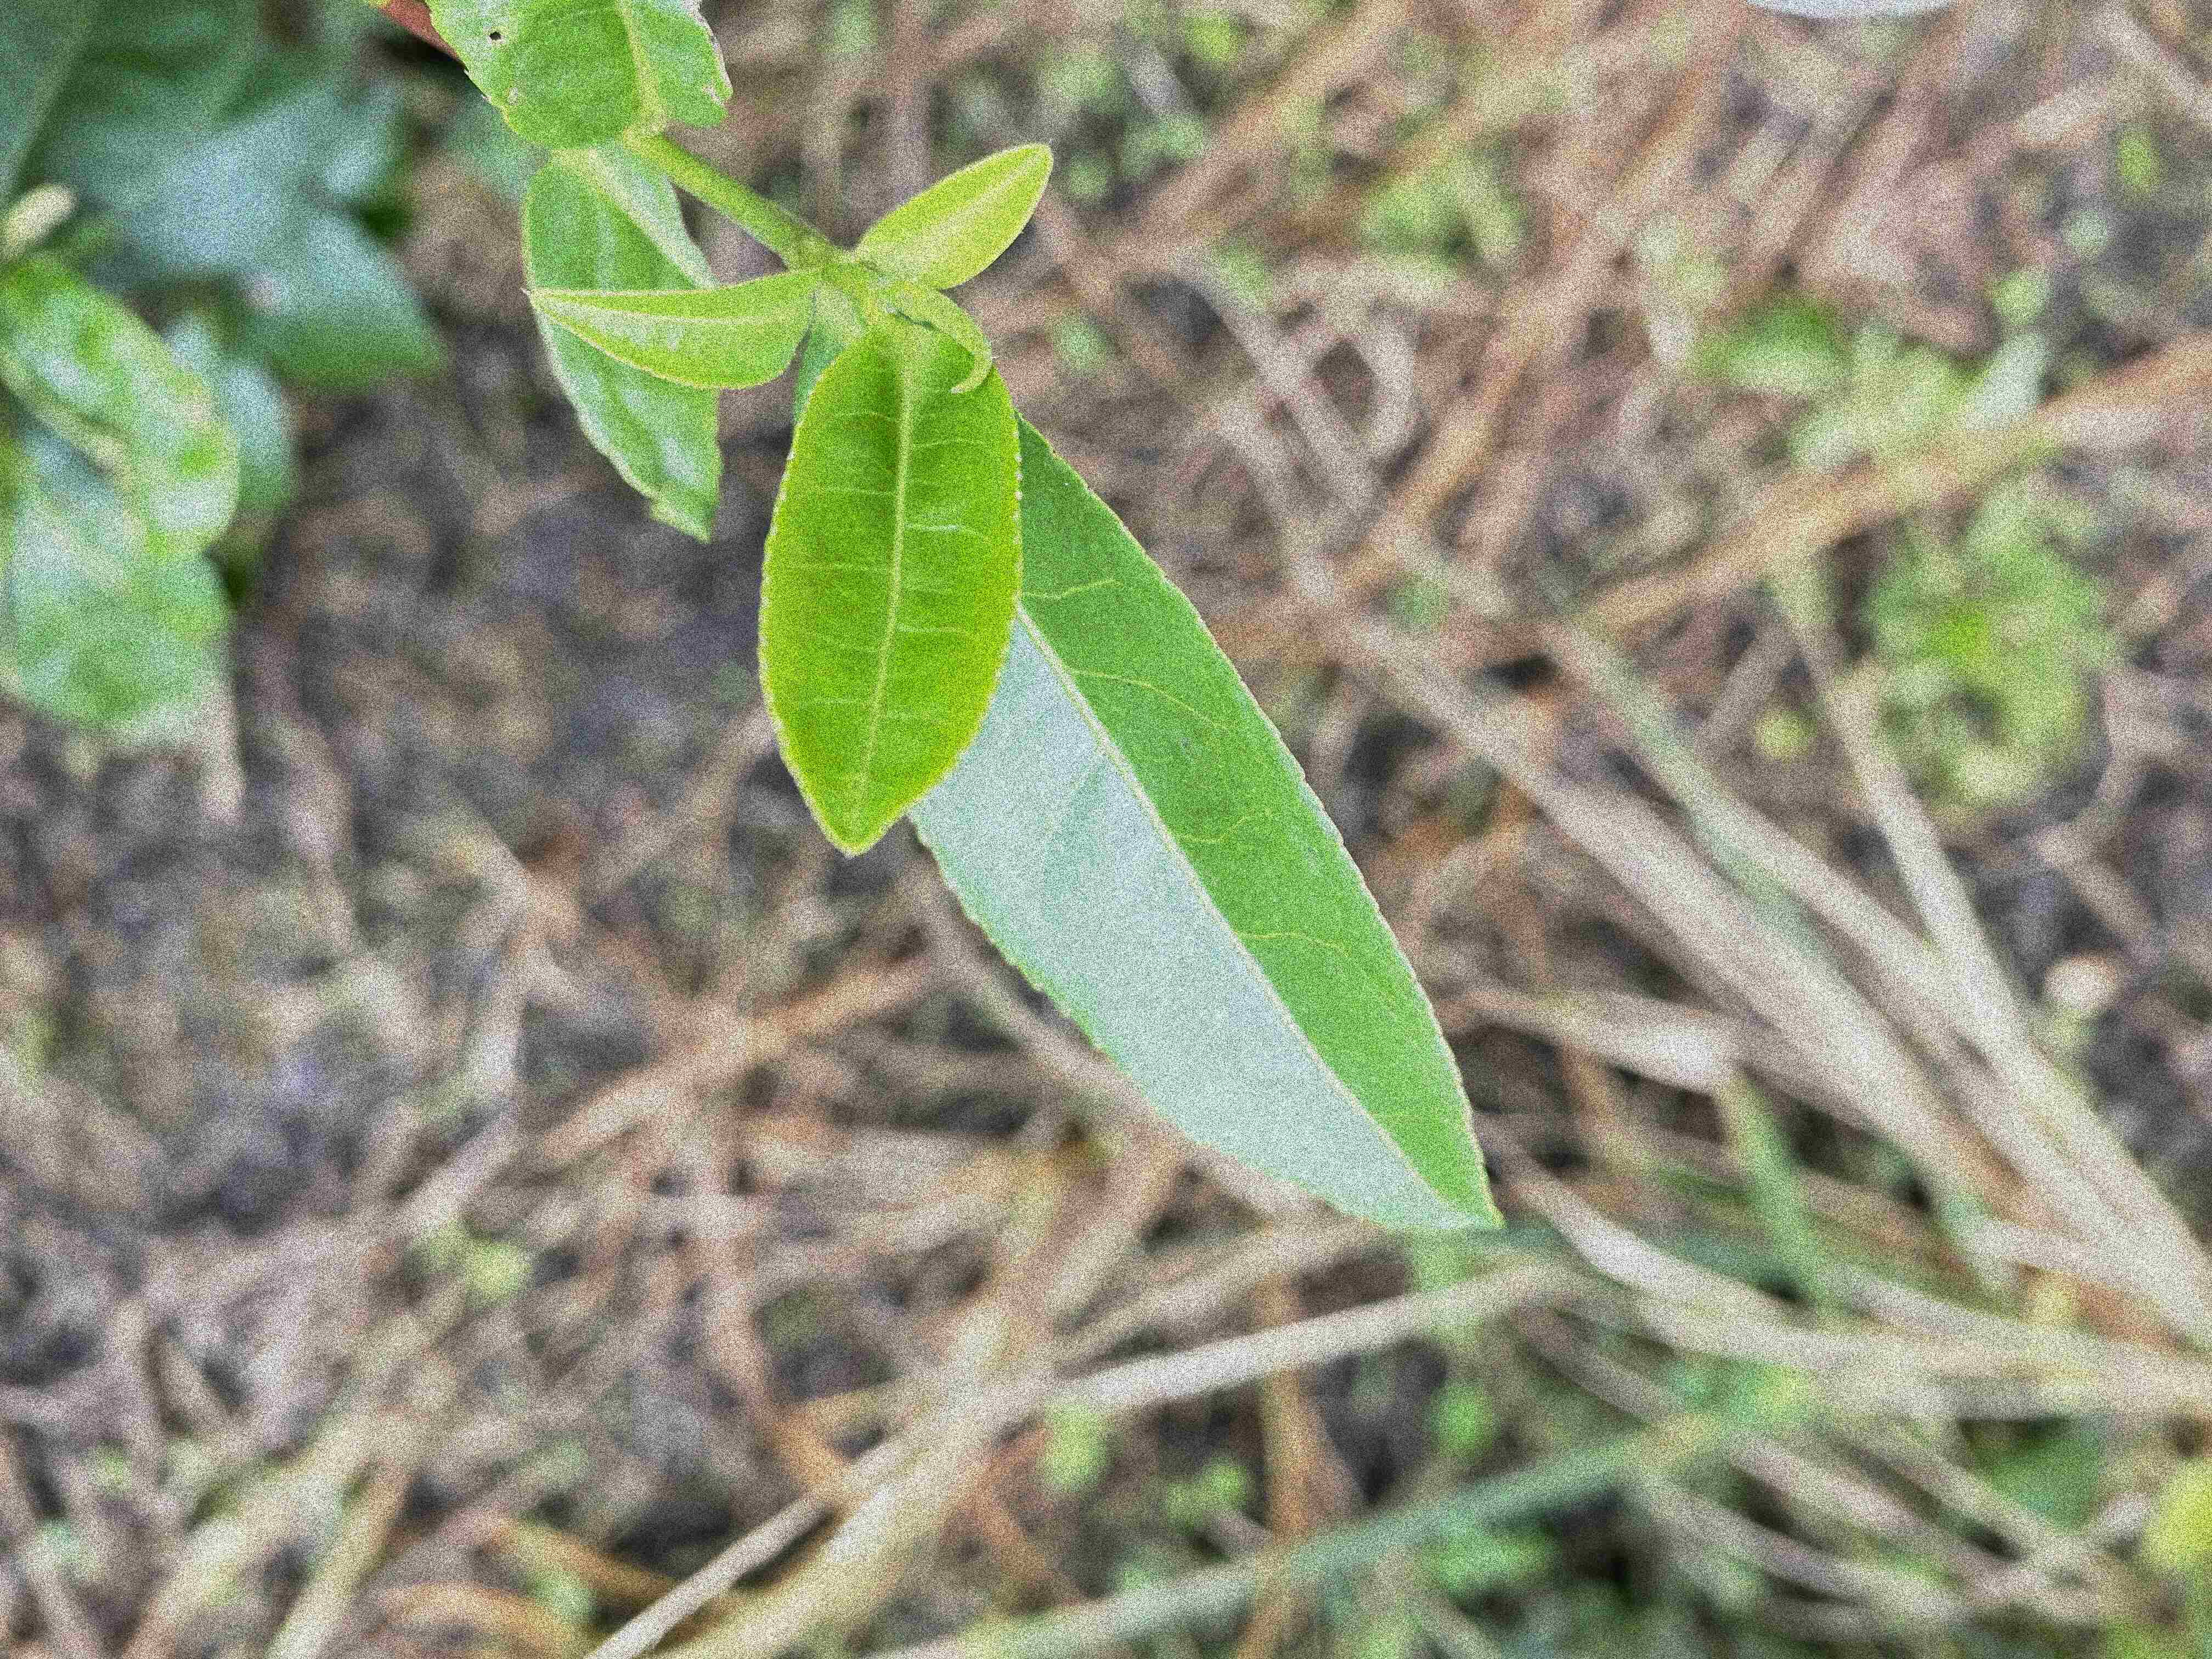healthy: (906, 410, 1503, 1237), (752, 321, 1024, 857), (526, 254, 822, 390), (859, 143, 1057, 288)
